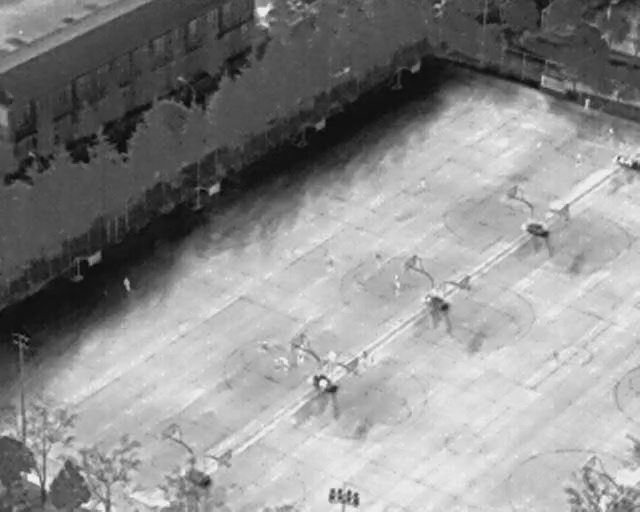Person: (373, 252, 384, 270), (277, 357, 289, 372), (392, 274, 401, 294), (581, 96, 592, 111), (123, 274, 131, 294), (296, 349, 305, 364), (360, 352, 369, 367), (326, 350, 336, 363), (261, 341, 270, 353), (575, 154, 583, 166), (420, 178, 426, 190), (609, 127, 615, 139)
